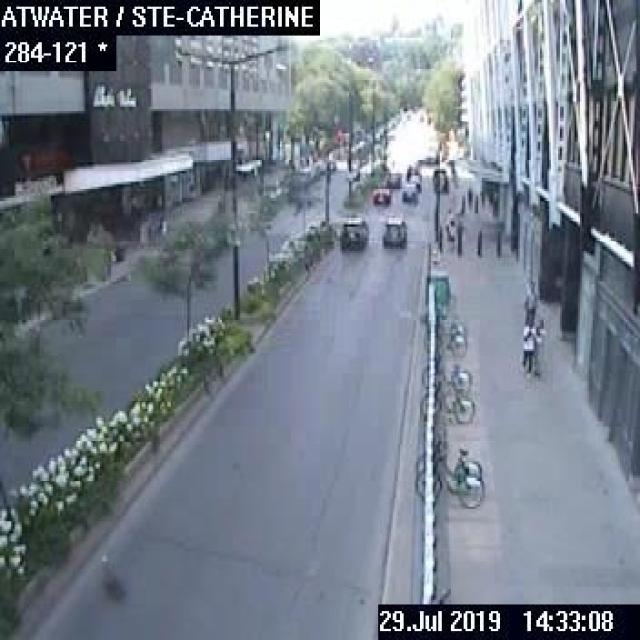pedestrian: (519, 315, 534, 375), (532, 317, 544, 375), (442, 205, 455, 248), (522, 282, 534, 324), (464, 181, 472, 208)
vehicle: (340, 215, 366, 247), (380, 214, 404, 244), (371, 184, 390, 204), (400, 182, 416, 200), (406, 173, 421, 189), (385, 170, 399, 187)
